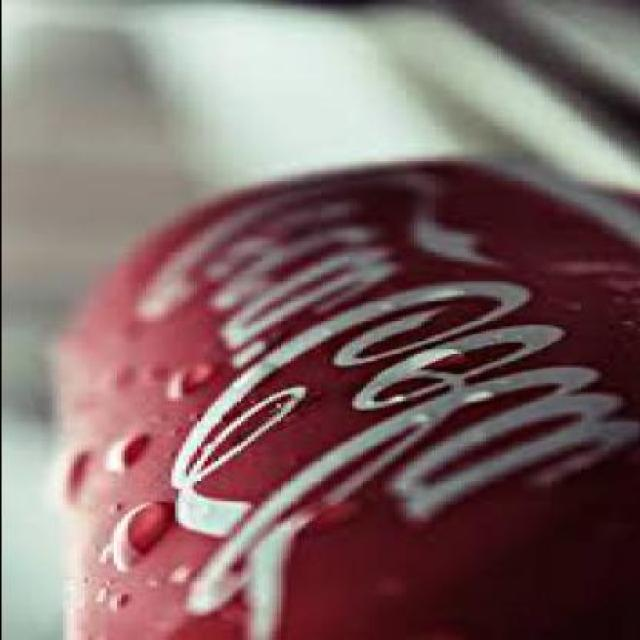METAL: (47, 146, 636, 639)
